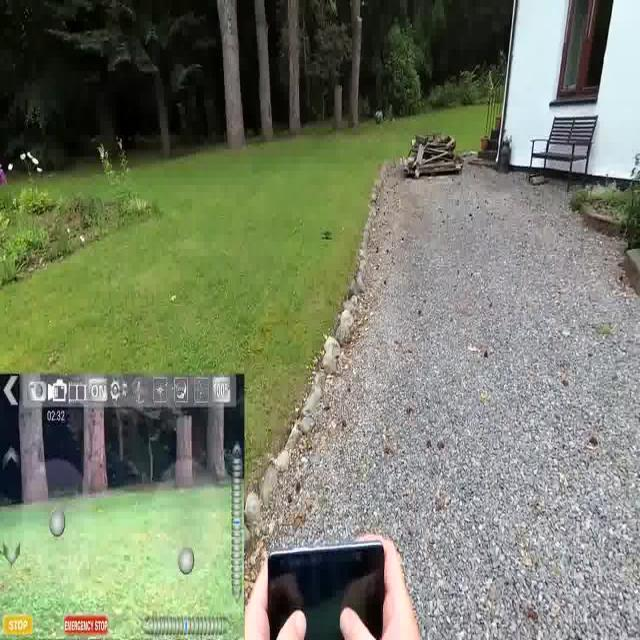drones: (320, 223, 335, 249)
